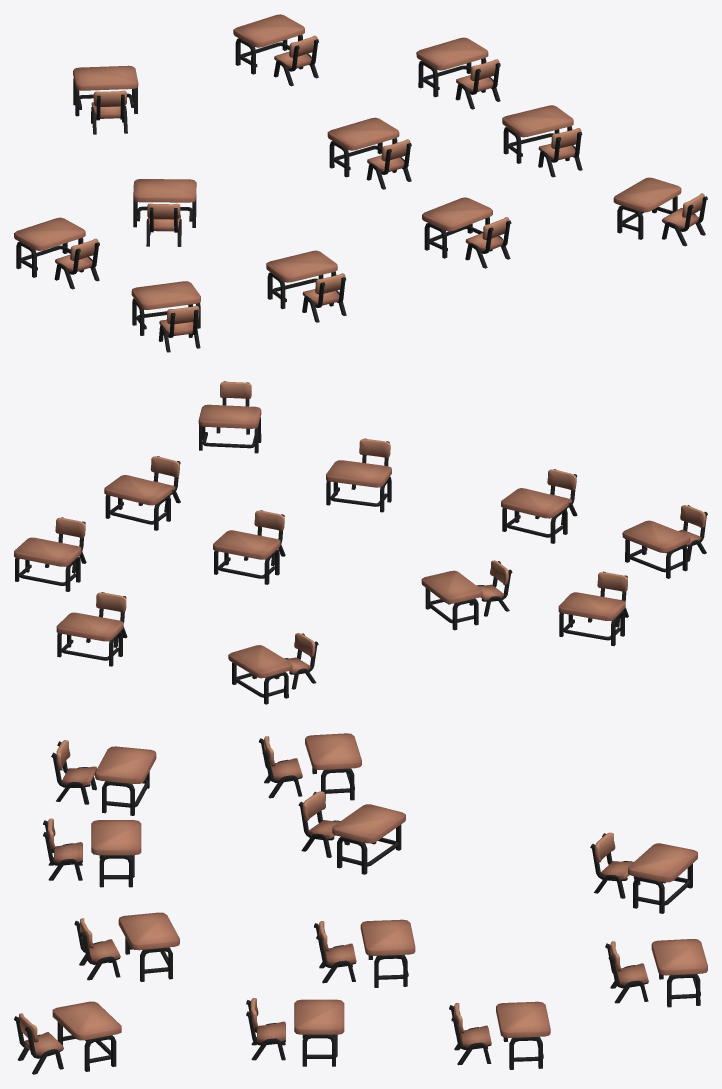
File: StudentSeats2.fbx
3 renders of one model, top to bottom at view 1: azimuth 30°, elevation 25°; view 2: azimuth 150°, elevation 25°; view 3: azimuth 270°, elevation 25°, orthographic. The views are drawn at different scales.
Parts seen in each view (by area): view 1: StudentSeats2; view 2: StudentSeats2; view 3: StudentSeats2.
Boxes of the visible parts, left/top/right/bottom form: StudentSeats2: left=14, top=14, right=707, bottom=352; StudentSeats2: left=14, top=381, right=707, bottom=704; StudentSeats2: left=14, top=733, right=707, bottom=1074.
Size of the model in its own units: 12.74 by 13.21 by 0.9536.
